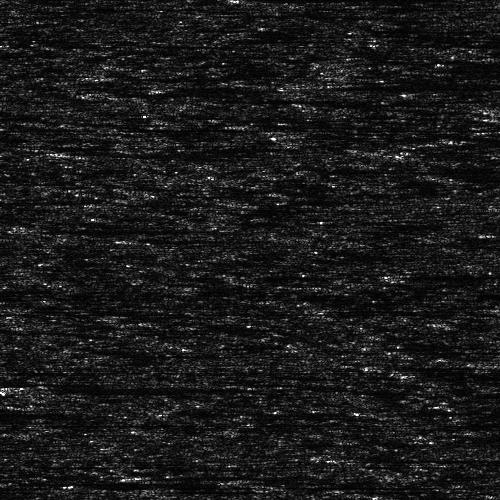rock: (0, 223, 85, 232), (418, 134, 471, 145), (83, 235, 166, 242), (177, 0, 312, 4), (0, 384, 52, 393), (131, 474, 172, 479), (142, 486, 183, 491), (299, 84, 340, 87)
shadow: (6, 384, 211, 393), (39, 223, 234, 232), (163, 486, 387, 491), (125, 235, 259, 242), (245, 0, 447, 4), (152, 474, 299, 479), (0, 369, 68, 378), (445, 134, 500, 145), (320, 84, 500, 87), (0, 443, 33, 452)
